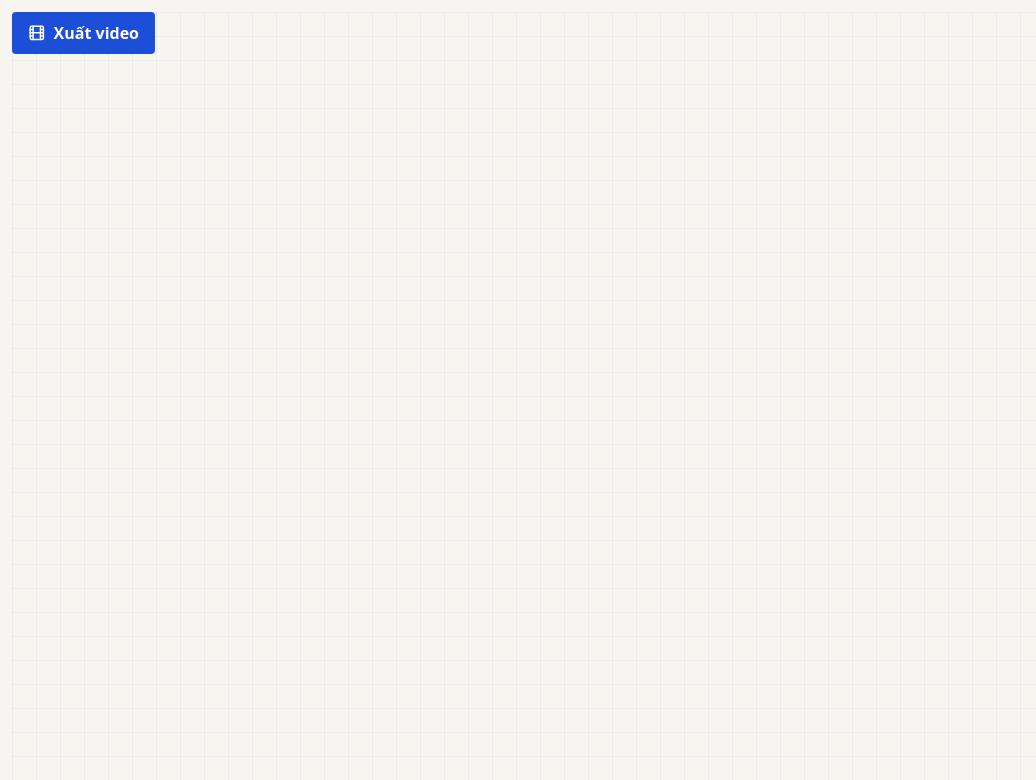
Scenario: ExportControls › không mã hóa được cách nào: báo dùng trình duyệt khác
Click the button "Xuất video" at (84, 33), box [12,12,155,54]
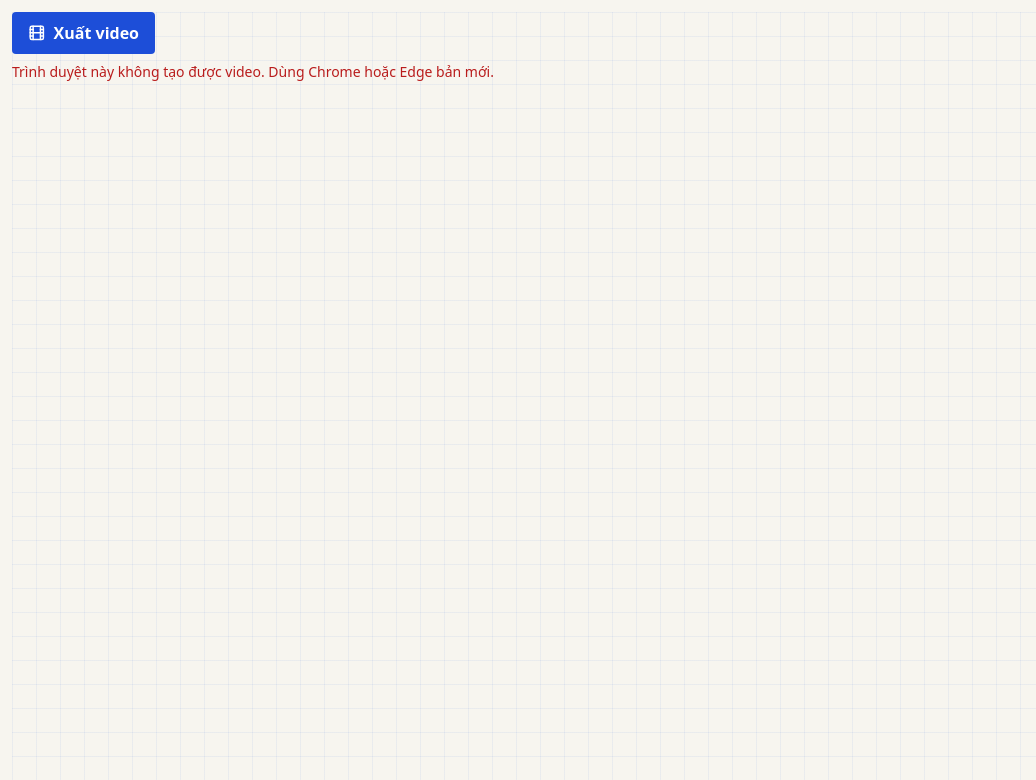
expect the text "Trình duyệt này không tạo được video. Dùng Chrome hoặc Edge bản mới." is shown: met, box [12,62,494,81]
